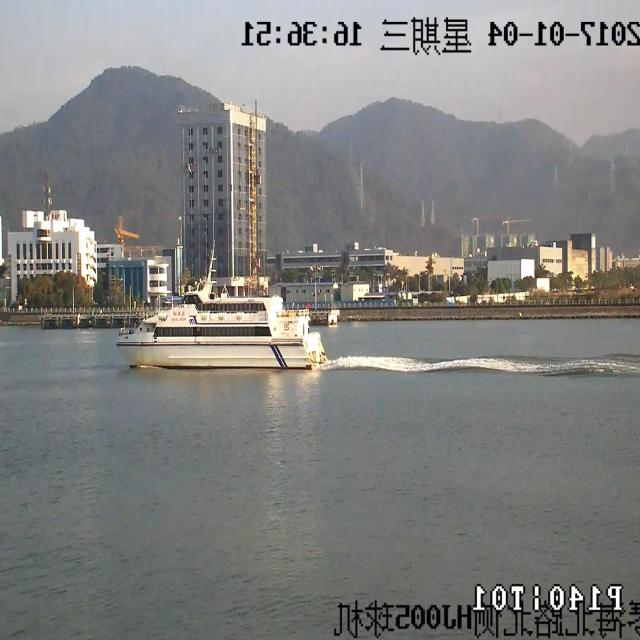passenger ship: (114, 232, 316, 380)
